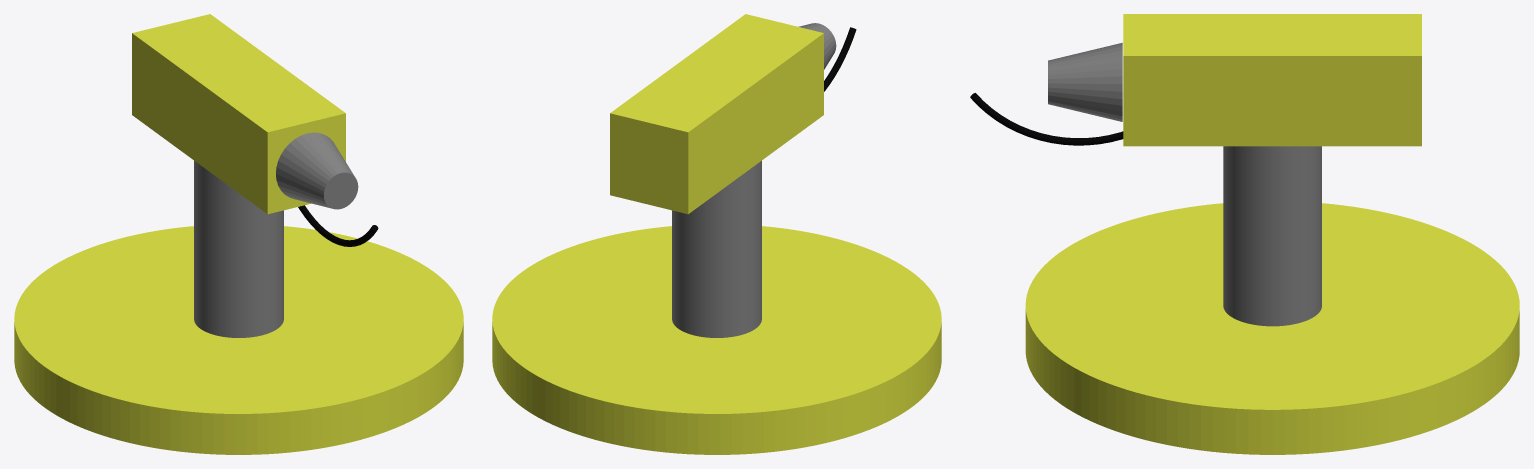
The model's file is Flame.glb.
The picture shows the model from 3 angles, left to right: view 1: azimuth 30°, elevation 25°; view 2: azimuth 150°, elevation 25°; view 3: azimuth 270°, elevation 25°; orthographic projection. The views are drawn at different scales.
Visible parts, largest first — view 1: Cylinder.002; view 2: Cylinder.002; view 3: Cylinder.002.
Boxes of the visible parts, <box> form: Cylinder.002: <box>14,14,463,454</box>; Cylinder.002: <box>492,14,941,454</box>; Cylinder.002: <box>970,14,1519,454</box>.
Size of the model in its own units: 0.9937 by 0.7 by 1.11.
